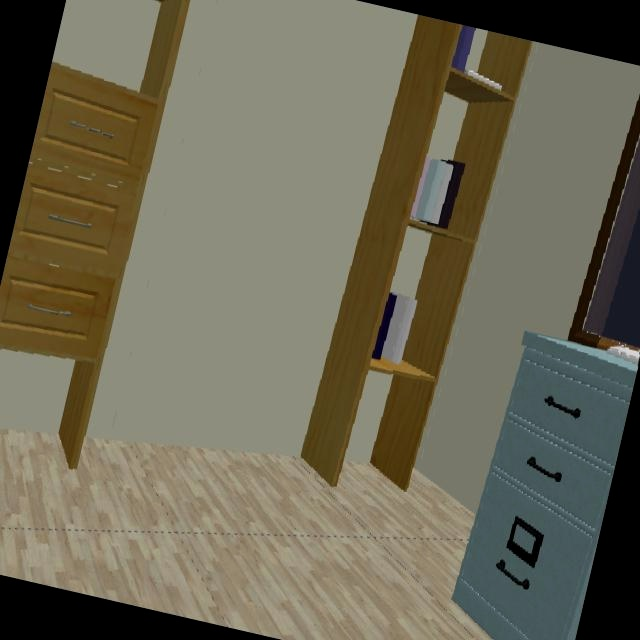book: (410, 157, 465, 231), (380, 294, 417, 365), (456, 25, 482, 70)
cabinet: (0, 63, 163, 459), (449, 331, 638, 640)
shelf: (300, 14, 462, 488), (369, 30, 531, 492)
